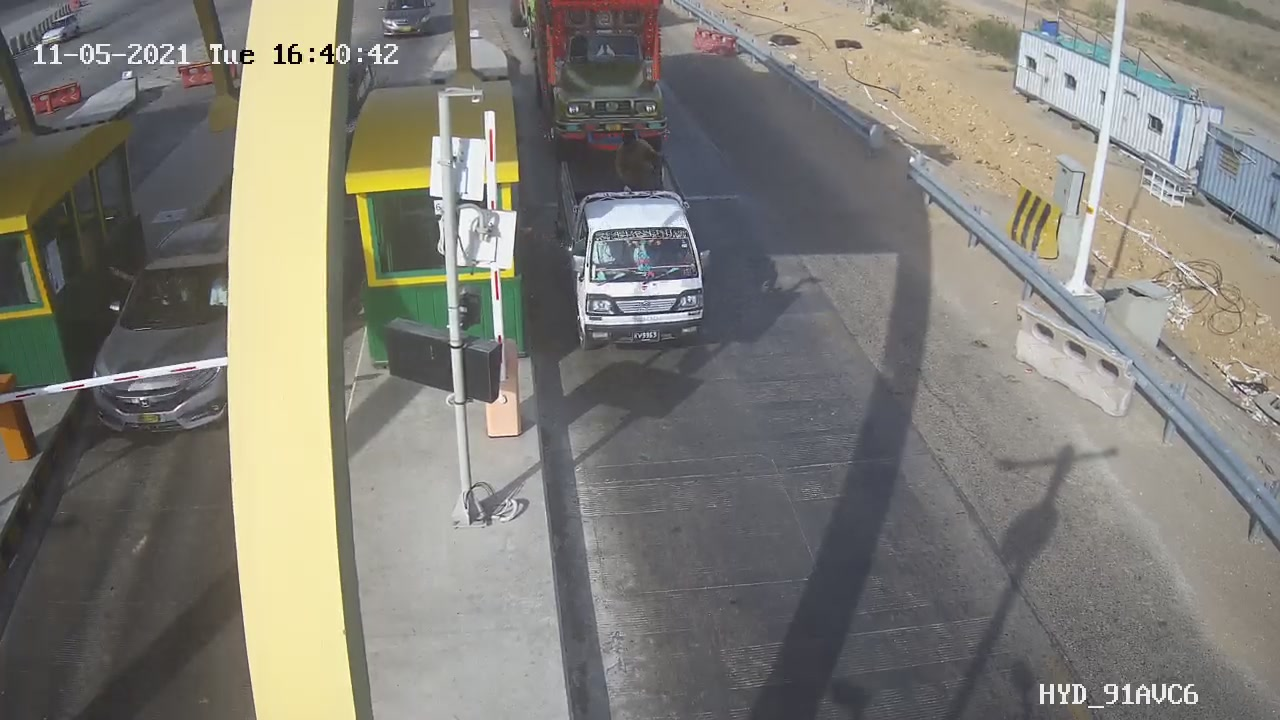F1: (539, 149, 746, 368)
